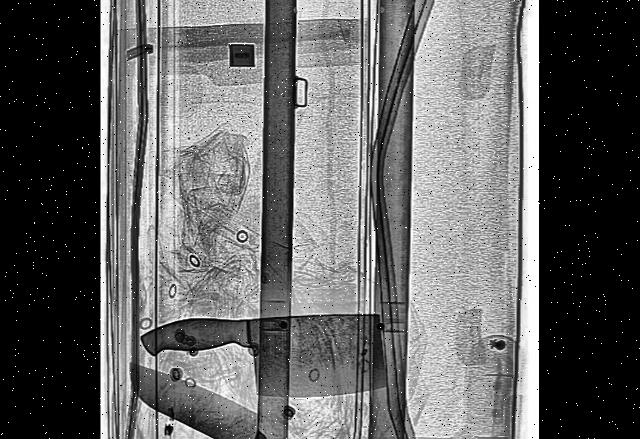Knife: (138, 284, 391, 414), (122, 360, 354, 439)
